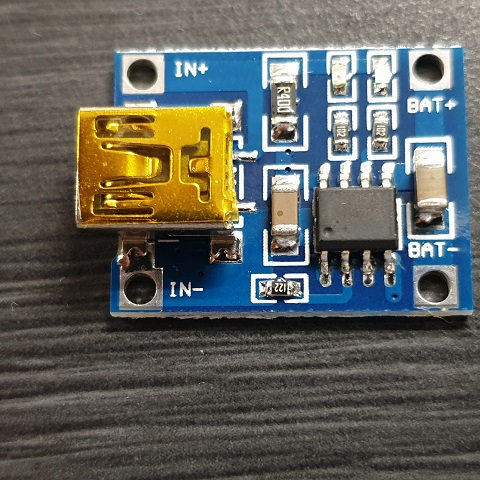batt+: (412, 50, 452, 94)
batt-: (412, 266, 454, 310)
charge: (326, 50, 356, 106)
done: (364, 48, 400, 103)
rprog: (248, 278, 304, 302)
usb: (72, 110, 233, 226)
